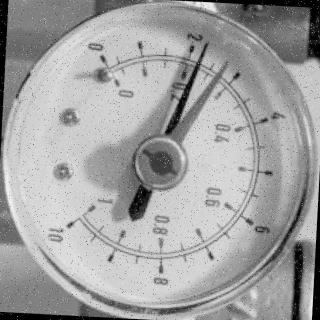gauge: (0, 0, 320, 320), (72, 38, 142, 108), (128, 133, 191, 194), (43, 190, 95, 248), (199, 36, 213, 54), (218, 56, 233, 72)
